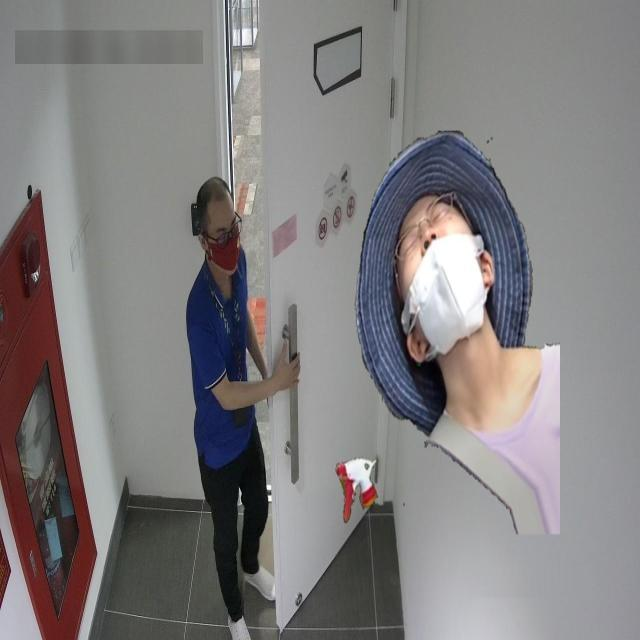hairnet: (400, 208, 486, 348)
